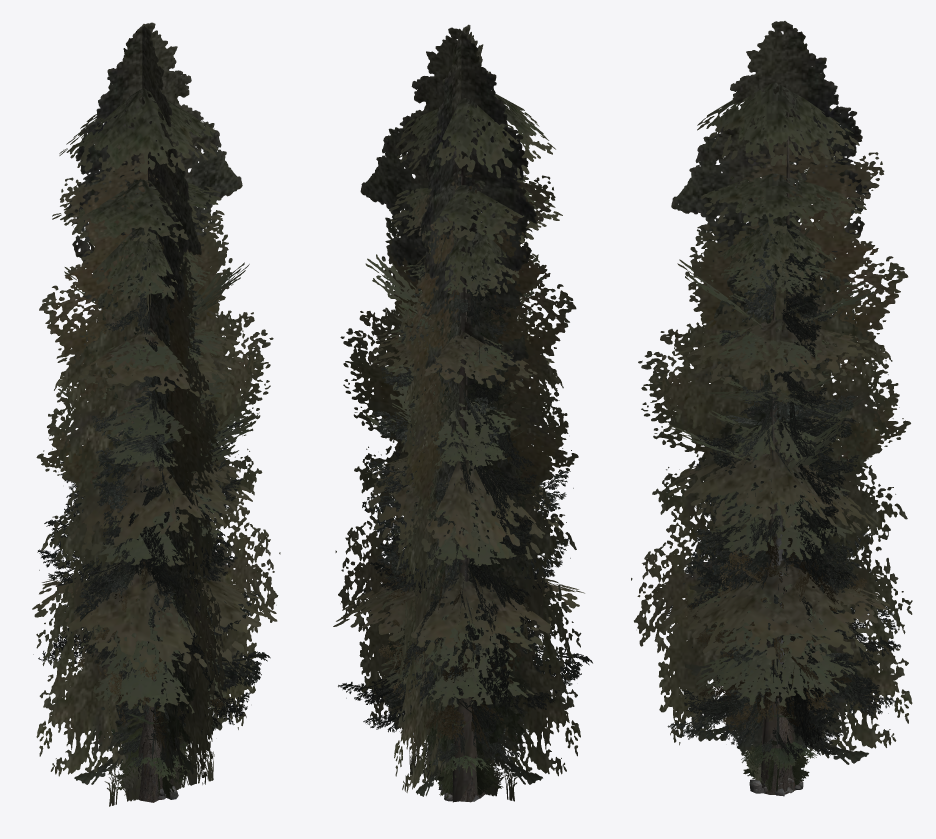
File: trees.glb
The picture shows the model from 3 angles, left to right: view 1: azimuth 30°, elevation 25°; view 2: azimuth 150°, elevation 25°; view 3: azimuth 270°, elevation 25°; orthographic projection.
Visible parts, largest first — view 1: Background_Tree_Atlas.004_Background_Tree_Atlas_0, Background_Tree_Atlas.005_Background_Tree_Atlas_0, Background_Tree_Atlas.001_Background_Tree_Atlas_0, Tree_Branches_01.002_Tree_Branches_01_0, Tree_Branches_01_Tree_Branches_01_0, Background_Tree_Atlas.003_Background_Tree_Atlas_0, Background_Tree_Atlas.007_Background_Tree_Atlas_0, Background_Tree_Atlas.002_Background_Tree_Atlas_0, Background_Tree_Atlas_Background_Tree_Atlas_0, Tree_Branches_02_Tree_Branches_02_0, Background_Tree_Atlas.009_Background_Tree_Atlas_0, Background_Tree_Atlas.008_Background_Tree_Atlas_0 (+3 smaller); view 2: Background_Tree_Atlas.004_Background_Tree_Atlas_0, Background_Tree_Atlas.005_Background_Tree_Atlas_0, Background_Tree_Atlas.001_Background_Tree_Atlas_0, Tree_Branches_01_Tree_Branches_01_0, Tree_Branches_01.002_Tree_Branches_01_0, Background_Tree_Atlas.003_Background_Tree_Atlas_0, Background_Tree_Atlas_Background_Tree_Atlas_0, Background_Tree_Atlas.002_Background_Tree_Atlas_0, Background_Tree_Atlas.007_Background_Tree_Atlas_0, Tree_Branches_02_Tree_Branches_02_0, Tree_Branches_01.001_Tree_Branches_01_0, Background_Tree_Atlas.009_Background_Tree_Atlas_0 (+3 smaller); view 3: Background_Tree_Atlas.004_Background_Tree_Atlas_0, Background_Tree_Atlas.005_Background_Tree_Atlas_0, Background_Tree_Atlas.001_Background_Tree_Atlas_0, Tree_Branches_01_Tree_Branches_01_0, Tree_Branches_01.002_Tree_Branches_01_0, Background_Tree_Atlas.002_Background_Tree_Atlas_0, Background_Tree_Atlas_Background_Tree_Atlas_0, Background_Tree_Atlas.007_Background_Tree_Atlas_0, Tree_Branches_02_Tree_Branches_02_0, Tree_Branches_01.001_Tree_Branches_01_0, Background_Tree_Atlas.003_Background_Tree_Atlas_0, Tree_Trunk_01.001_Tree_Trunk_01_0 (+3 smaller).
Part boxes in pixels (<box>): Background_Tree_Atlas.004_Background_Tree_Atlas_0: <box>32,250,280,785</box>; Background_Tree_Atlas.005_Background_Tree_Atlas_0: <box>52,22,242,701</box>; Background_Tree_Atlas.001_Background_Tree_Atlas_0: <box>36,132,273,618</box>; Tree_Branches_01.002_Tree_Branches_01_0: <box>33,380,270,749</box>; Tree_Branches_01_Tree_Branches_01_0: <box>58,228,243,680</box>; Background_Tree_Atlas.003_Background_Tree_Atlas_0: <box>77,239,222,718</box>; Background_Tree_Atlas.007_Background_Tree_Atlas_0: <box>85,228,230,554</box>; Background_Tree_Atlas.002_Background_Tree_Atlas_0: <box>73,466,229,784</box>; Background_Tree_Atlas_Background_Tree_Atlas_0: <box>73,340,229,758</box>; Tree_Branches_02_Tree_Branches_02_0: <box>63,557,223,751</box>; Background_Tree_Atlas.009_Background_Tree_Atlas_0: <box>116,699,188,798</box>; Background_Tree_Atlas.008_Background_Tree_Atlas_0: <box>104,744,214,806</box>; Background_Tree_Atlas.004_Background_Tree_Atlas_0: <box>333,306,584,792</box>; Background_Tree_Atlas.005_Background_Tree_Atlas_0: <box>360,24,562,802</box>; Background_Tree_Atlas.001_Background_Tree_Atlas_0: <box>340,174,578,637</box>; Tree_Branches_01_Tree_Branches_01_0: <box>362,233,573,684</box>; Tree_Branches_01.002_Tree_Branches_01_0: <box>338,392,592,746</box>; Background_Tree_Atlas.003_Background_Tree_Atlas_0: <box>389,283,537,724</box>; Background_Tree_Atlas_Background_Tree_Atlas_0: <box>381,254,535,761</box>; Background_Tree_Atlas.002_Background_Tree_Atlas_0: <box>380,484,542,796</box>; Background_Tree_Atlas.007_Background_Tree_Atlas_0: <box>385,228,530,521</box>; Tree_Branches_02_Tree_Branches_02_0: <box>378,552,542,749</box>; Tree_Branches_01.001_Tree_Branches_01_0: <box>410,577,528,774</box>; Background_Tree_Atlas.009_Background_Tree_Atlas_0: <box>427,707,503,799</box>; Background_Tree_Atlas.004_Background_Tree_Atlas_0: <box>631,254,912,787</box>; Background_Tree_Atlas.005_Background_Tree_Atlas_0: <box>671,21,870,780</box>; Background_Tree_Atlas.001_Background_Tree_Atlas_0: <box>638,126,910,687</box>; Tree_Branches_01_Tree_Branches_01_0: <box>696,219,863,669</box>; Tree_Branches_01.002_Tree_Branches_01_0: <box>663,373,900,749</box>; Background_Tree_Atlas.002_Background_Tree_Atlas_0: <box>685,373,868,764</box>; Background_Tree_Atlas_Background_Tree_Atlas_0: <box>700,215,862,734</box>; Background_Tree_Atlas.007_Background_Tree_Atlas_0: <box>695,204,855,522</box>; Tree_Branches_02_Tree_Branches_02_0: <box>689,524,866,736</box>; Tree_Branches_01.001_Tree_Branches_01_0: <box>720,564,842,760</box>; Background_Tree_Atlas.003_Background_Tree_Atlas_0: <box>691,297,862,658</box>; Tree_Trunk_01.001_Tree_Trunk_01_0: <box>755,511,805,794</box>.
Bounding box in the file's own units: 11.4 × 33.27 × 11.4.
6 materials, 6 textured.
